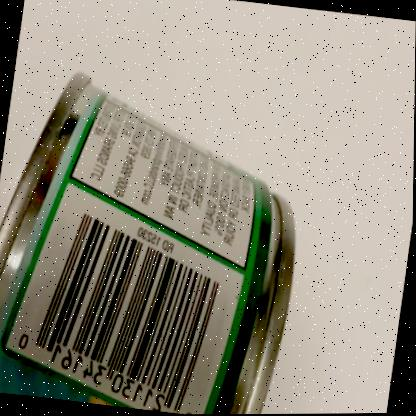Metal: (0, 74, 295, 415)
